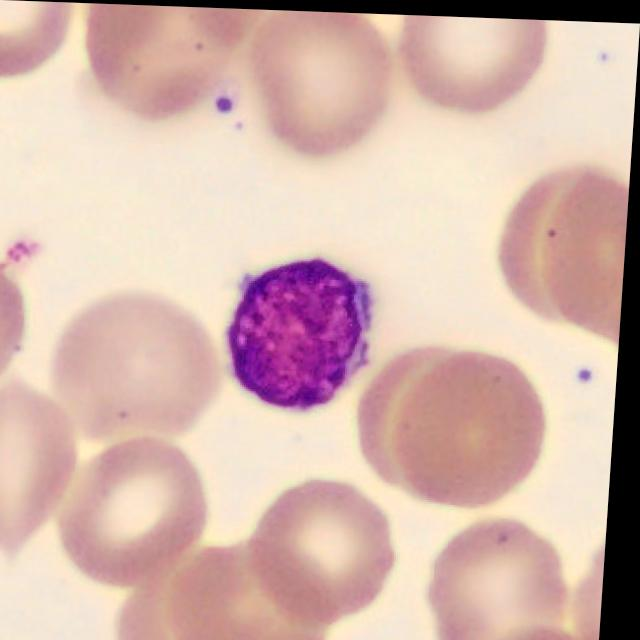Linfocito: (233, 257, 370, 403)
